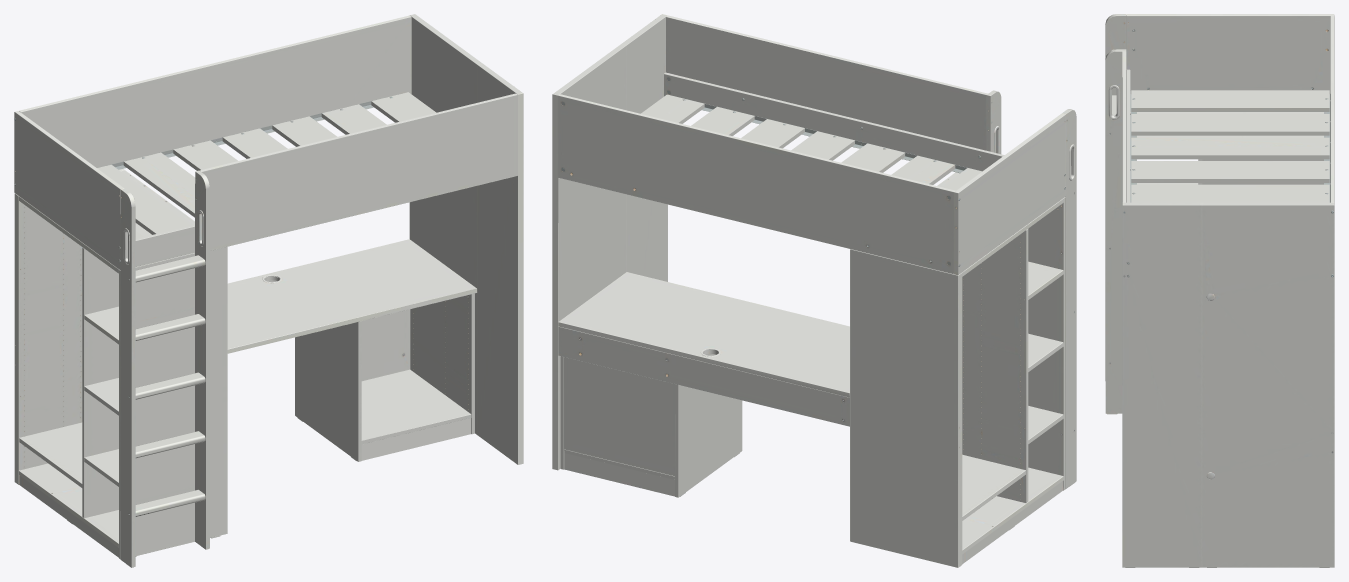
The model's file is smastad_rama_ozka_na_antresoli_biur_sza_50454036.glb.
3 views of the same model, side by side, from view 1: azimuth 30°, elevation 25°; view 2: azimuth 150°, elevation 25°; view 3: azimuth 270°, elevation 25° (orthographic). The views are drawn at different scales.
Parts seen in each view (by area): view 1: smastad_rama_ozka_na_antresoli_biur_sza_50454036; view 2: smastad_rama_ozka_na_antresoli_biur_sza_50454036; view 3: smastad_rama_ozka_na_antresoli_biur_sza_50454036.
Part boxes in pixels (x1,y1,x2,y2): smastad_rama_ozka_na_antresoli_biur_sza_50454036: [14, 14, 523, 567]; smastad_rama_ozka_na_antresoli_biur_sza_50454036: [552, 14, 1076, 567]; smastad_rama_ozka_na_antresoli_biur_sza_50454036: [1105, 14, 1334, 567].
Size of the model in its own units: 2.07 by 1.83 by 1.04.
Materials: 1 (1 with a texture image).
